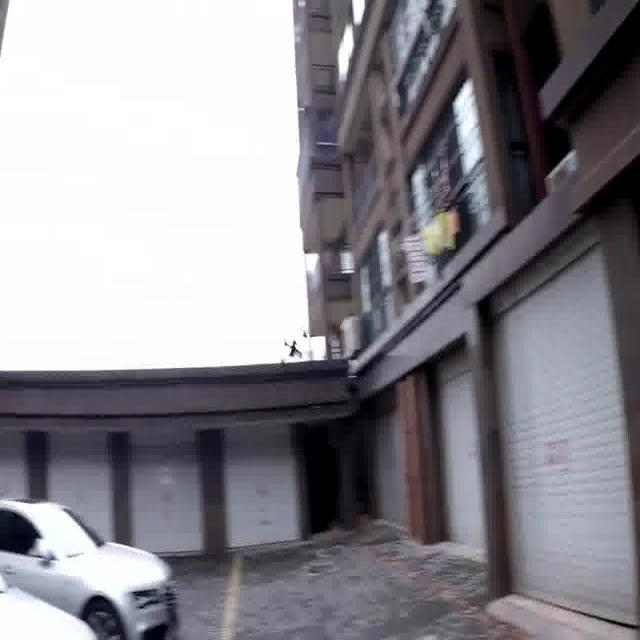drone: (281, 328, 303, 366)
